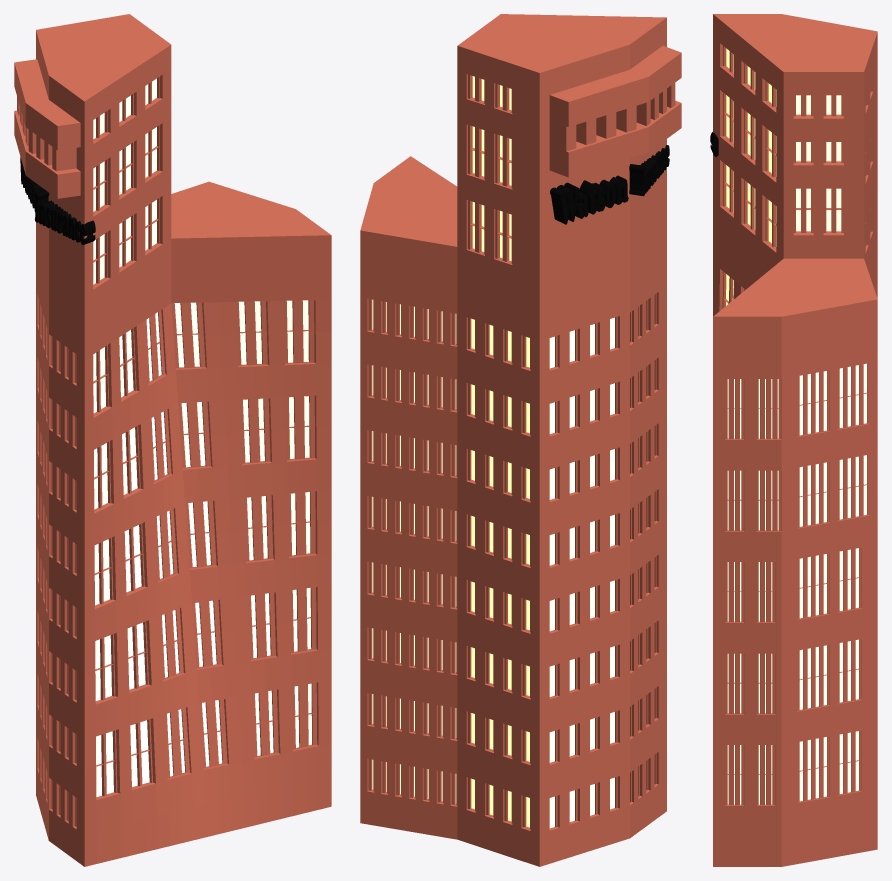
File: watson_insurance_HQ.fbx
3 views of the same model, side by side, from view 1: azimuth 30°, elevation 25°; view 2: azimuth 150°, elevation 25°; view 3: azimuth 270°, elevation 25° (orthographic). The views are drawn at different scales.
Visible parts, largest first — view 1: watson_insurance_HQ; view 2: watson_insurance_HQ; view 3: watson_insurance_HQ.
Boxes of the visible parts, <box> form: watson_insurance_HQ: <box>14,14,331,866</box>; watson_insurance_HQ: <box>360,14,681,866</box>; watson_insurance_HQ: <box>710,14,877,866</box>.
Bounding box in the file's own units: 433 × 1184 × 244.
